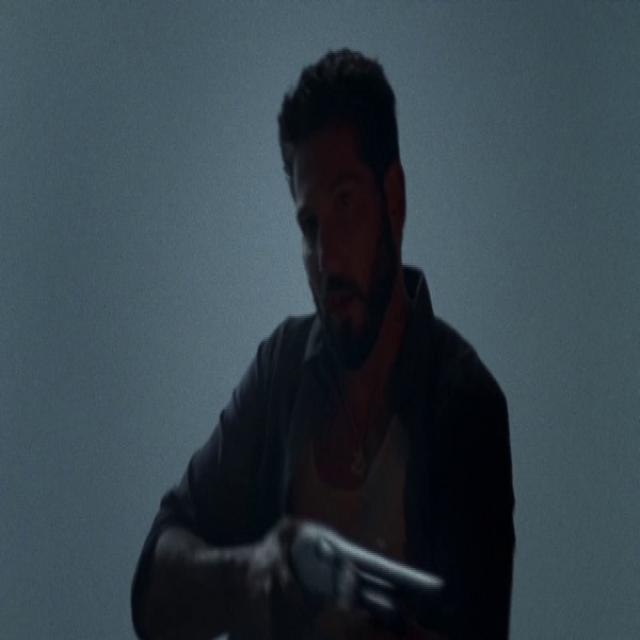rifle: (290, 520, 451, 623)
